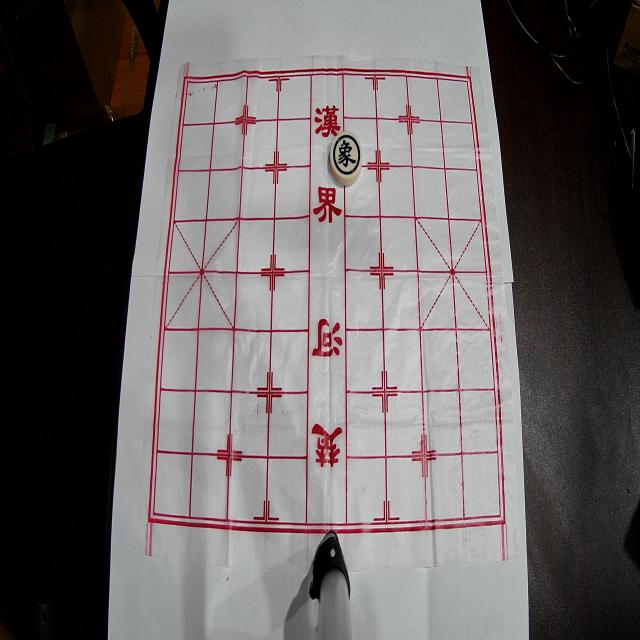black-elephant: (330, 131, 362, 185)
